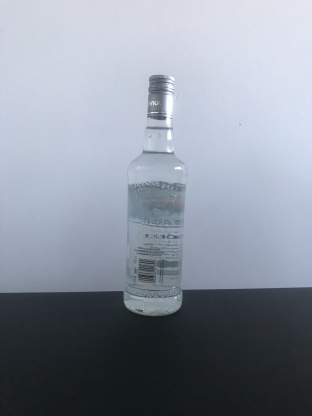nakretka: (146, 72, 176, 119)
